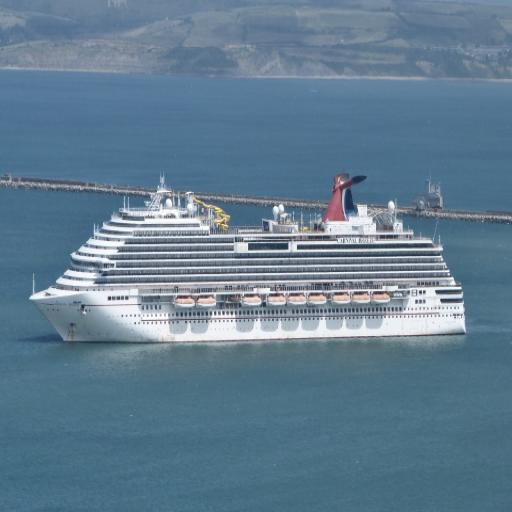cruises: (27, 166, 470, 354)
